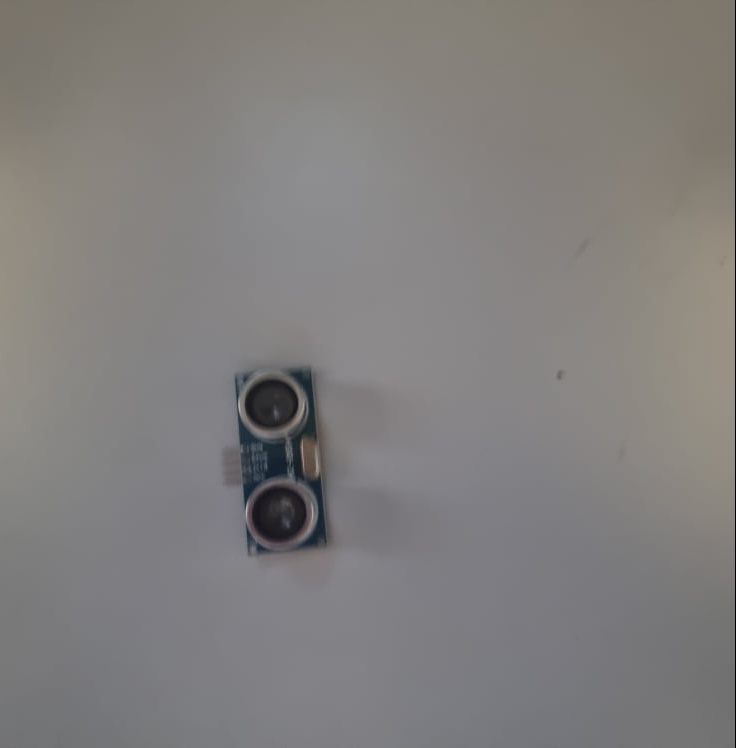SENSOR: (222, 366, 334, 558)
